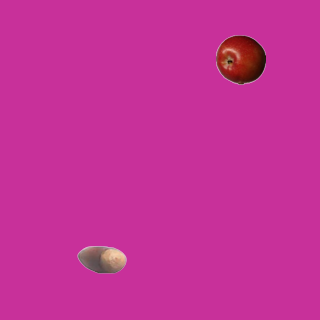Apple Braeburn: (215, 34, 265, 84)
Hazelnut: (76, 234, 126, 284)
